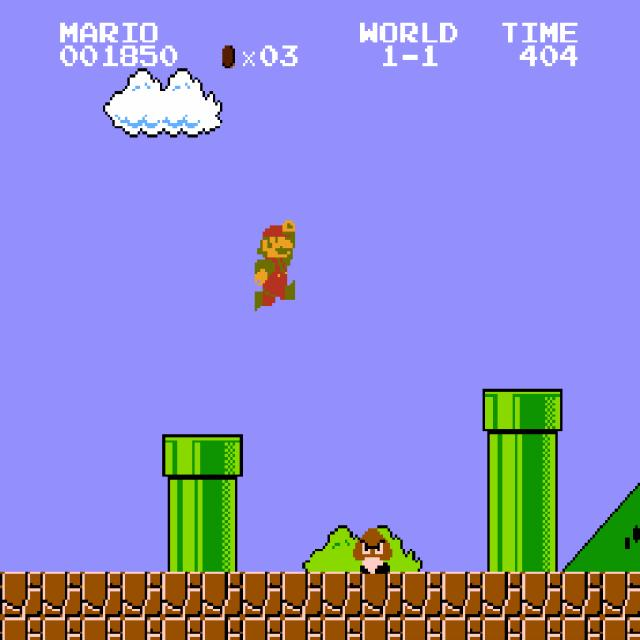big_mario: (252, 217, 295, 311)
goomba: (350, 526, 393, 574)
pipe: (162, 480, 203, 526), (202, 480, 243, 526), (482, 434, 523, 480), (482, 480, 523, 526), (522, 434, 563, 480), (522, 480, 563, 526), (162, 526, 203, 571), (202, 526, 243, 571), (482, 526, 523, 571), (522, 526, 563, 571)
pipe_head: (162, 434, 203, 480), (202, 434, 243, 480), (482, 389, 523, 434), (522, 389, 563, 434)
undestructible_block: (2, 572, 43, 617), (42, 572, 83, 617), (82, 572, 123, 617), (122, 572, 163, 617), (162, 572, 203, 617), (202, 572, 243, 617), (242, 572, 283, 617), (282, 572, 323, 617), (322, 572, 363, 617), (362, 572, 403, 617), (402, 572, 443, 617), (442, 572, 483, 617), (482, 572, 523, 617), (522, 572, 563, 617), (562, 572, 603, 617), (603, 572, 640, 617), (2, 617, 43, 640), (42, 617, 83, 640), (82, 617, 123, 640), (122, 617, 163, 640), (162, 617, 203, 640), (202, 617, 243, 640), (242, 617, 283, 640), (282, 617, 323, 640), (322, 617, 363, 640), (362, 617, 403, 640), (402, 617, 443, 640), (442, 617, 483, 640), (482, 617, 523, 640), (522, 617, 563, 640), (562, 617, 603, 640), (603, 617, 640, 640), (0, 571, 2, 617), (0, 617, 2, 639)
